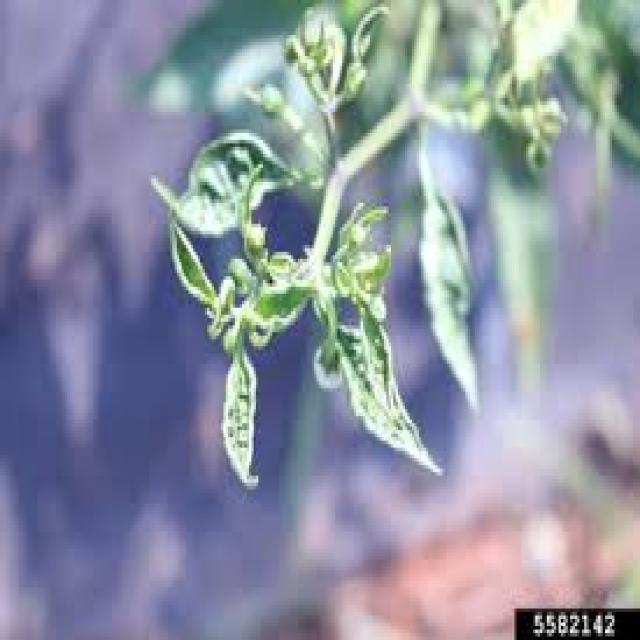Nutirtion_deficie: (317, 278, 449, 480), (140, 140, 316, 220), (216, 334, 264, 495)
